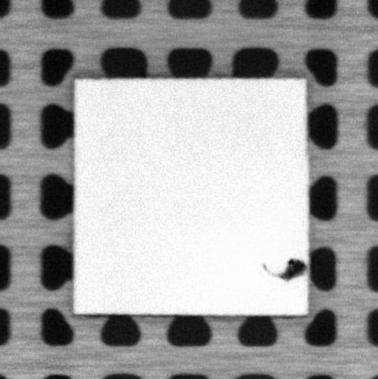DIE_INK: (260, 255, 309, 281)
